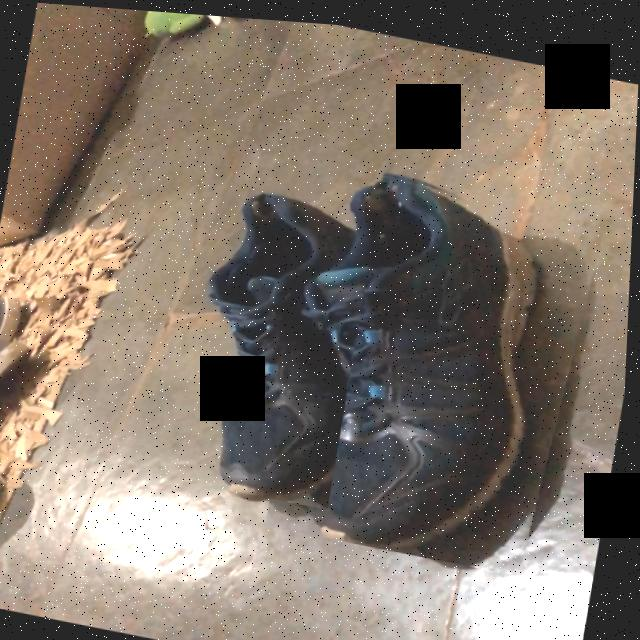shoe: (303, 170, 589, 550), (210, 190, 358, 496)
